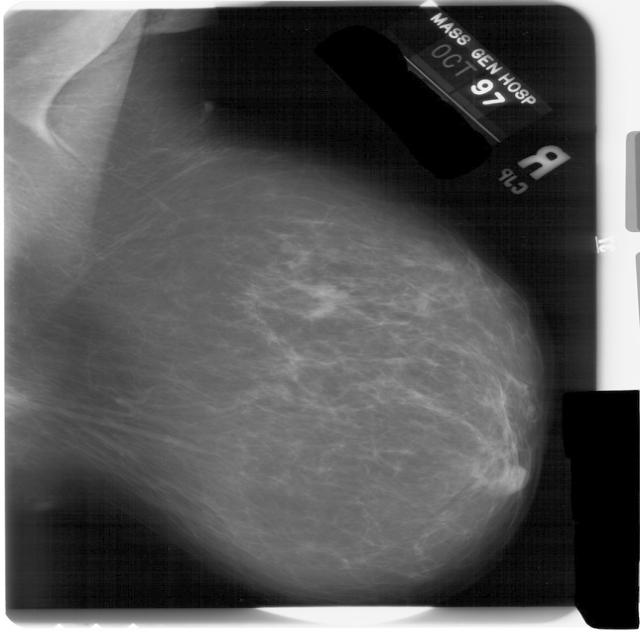tumour: (293, 280, 350, 312)
